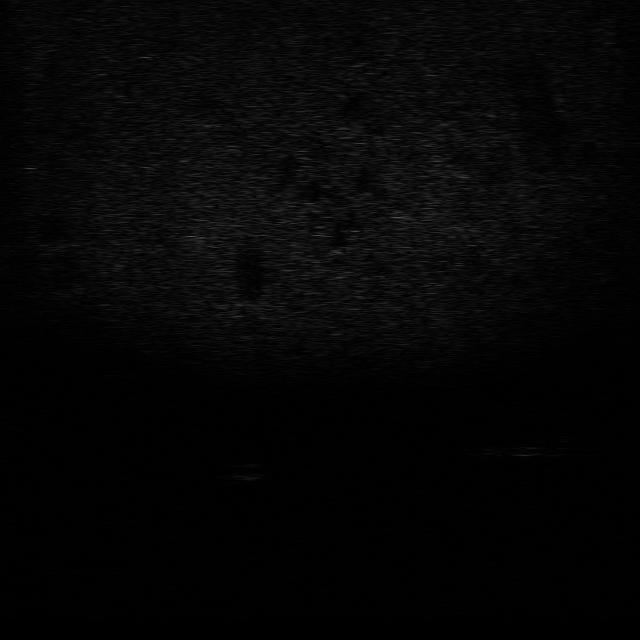ball: (220, 459, 274, 483)
human body: (473, 433, 585, 459)
